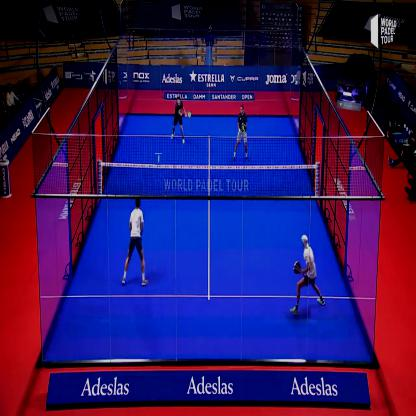ball: (155, 153, 163, 166)
